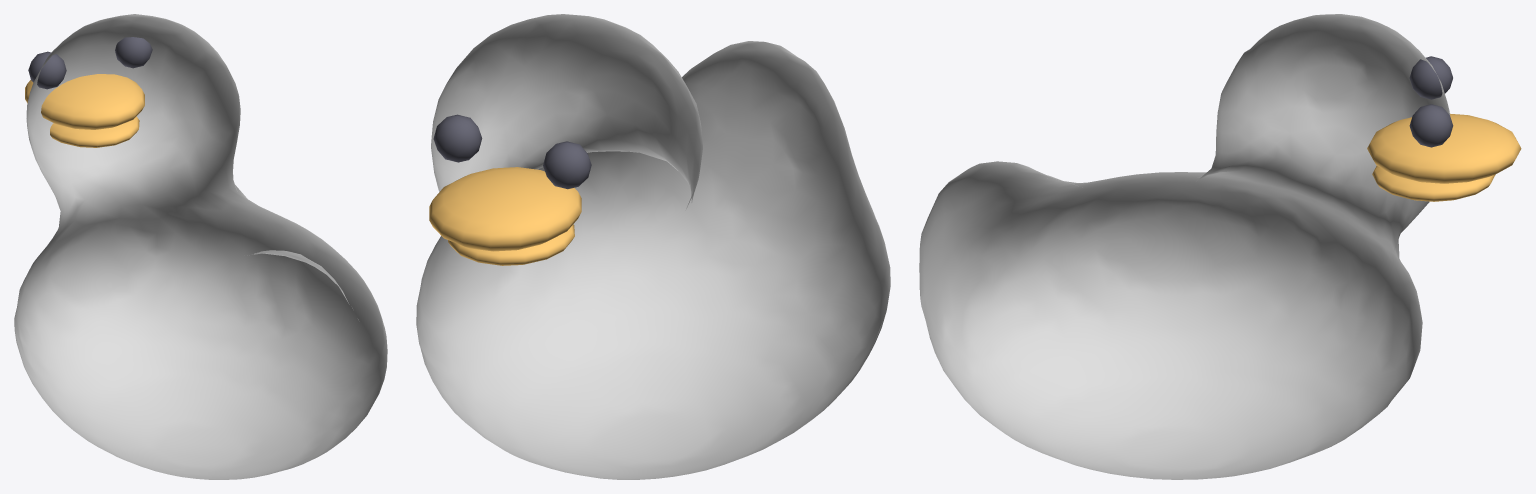
File: LobbyDuck.glb
The picture shows the model from 3 angles, left to right: view 1: azimuth 30°, elevation 25°; view 2: azimuth 150°, elevation 25°; view 3: azimuth 270°, elevation 25°; orthographic projection. The views are drawn at different scales.
Parts seen in each view (by area): view 1: Body, Beak, Eyes; view 2: Body, Beak, Eyes; view 3: Body, Beak, Eyes.
Boxes of the visible parts, box(x1,y1,x2,y2) form: Body: box(14, 14, 387, 479); Beak: box(25, 74, 144, 147); Eyes: box(28, 37, 152, 89); Body: box(416, 14, 890, 479); Beak: box(429, 167, 581, 265); Eyes: box(433, 114, 591, 189); Body: box(919, 14, 1449, 479); Beak: box(1367, 113, 1521, 201); Eyes: box(1409, 56, 1453, 147).
Bounding box in the file's own units: 1.56 × 1.83 × 2.34.
